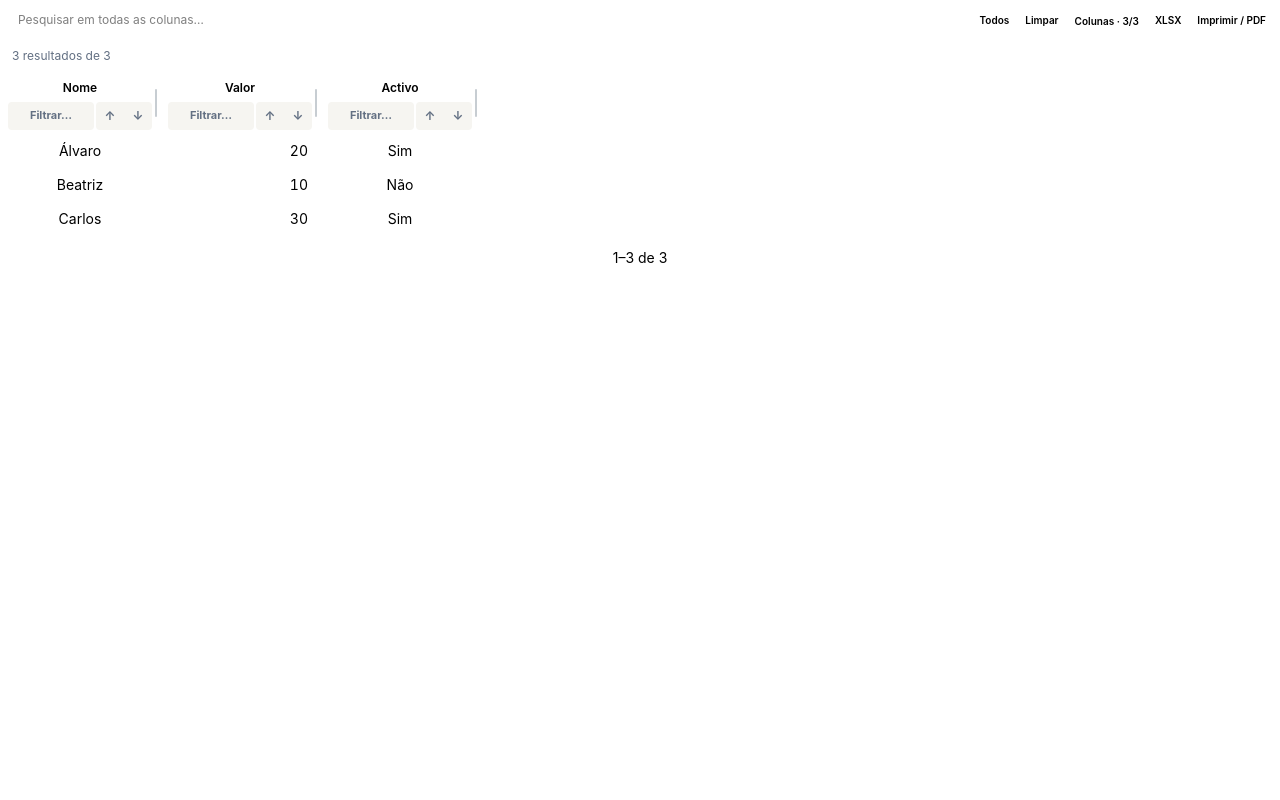
it: StandardDataTable › multisselecção booleana distingue todas as opções de nenhuma opção
The image size is (1280, 800).
Click the 3rd button "Filtrar…" at (371, 116), box 328,102 -> 414,130
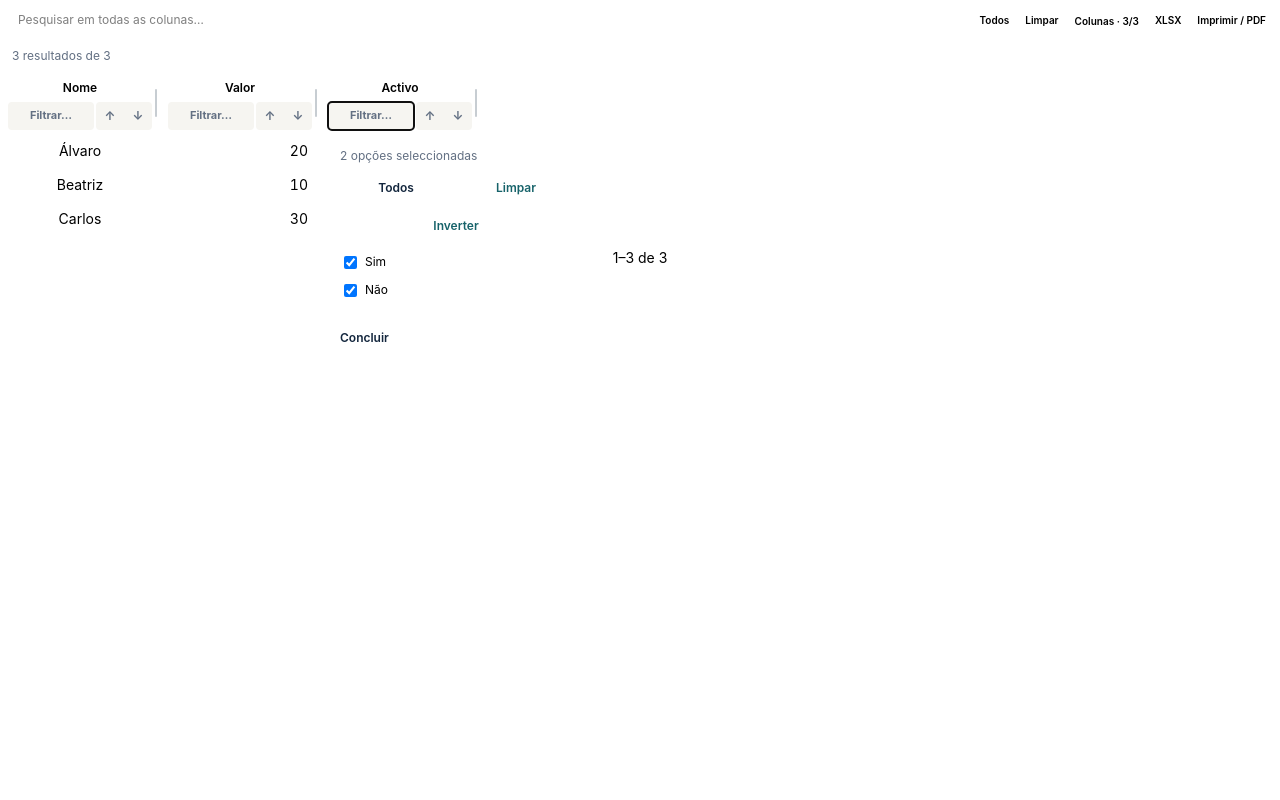
Expected: the text "2 opções seleccionadas" is shown, 340,148 -> 477,163
Click the button "Limpar" below "opções seleccionadas" at (516, 188), box 460,172 -> 572,204
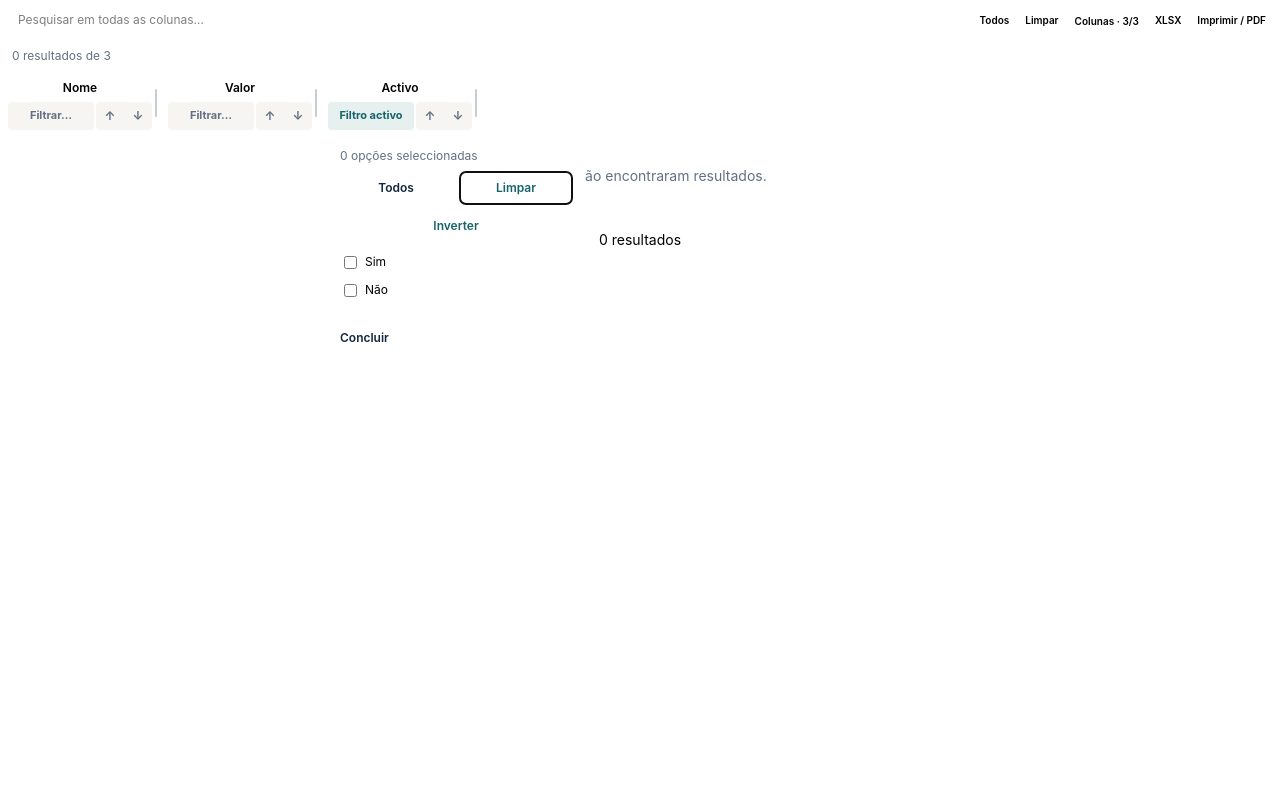
Expected: the text "0 resultados de 3" is shown, 12,48 -> 111,63
Click the button "Todos" below "opções seleccionadas" at (396, 188), box 340,172 -> 452,204
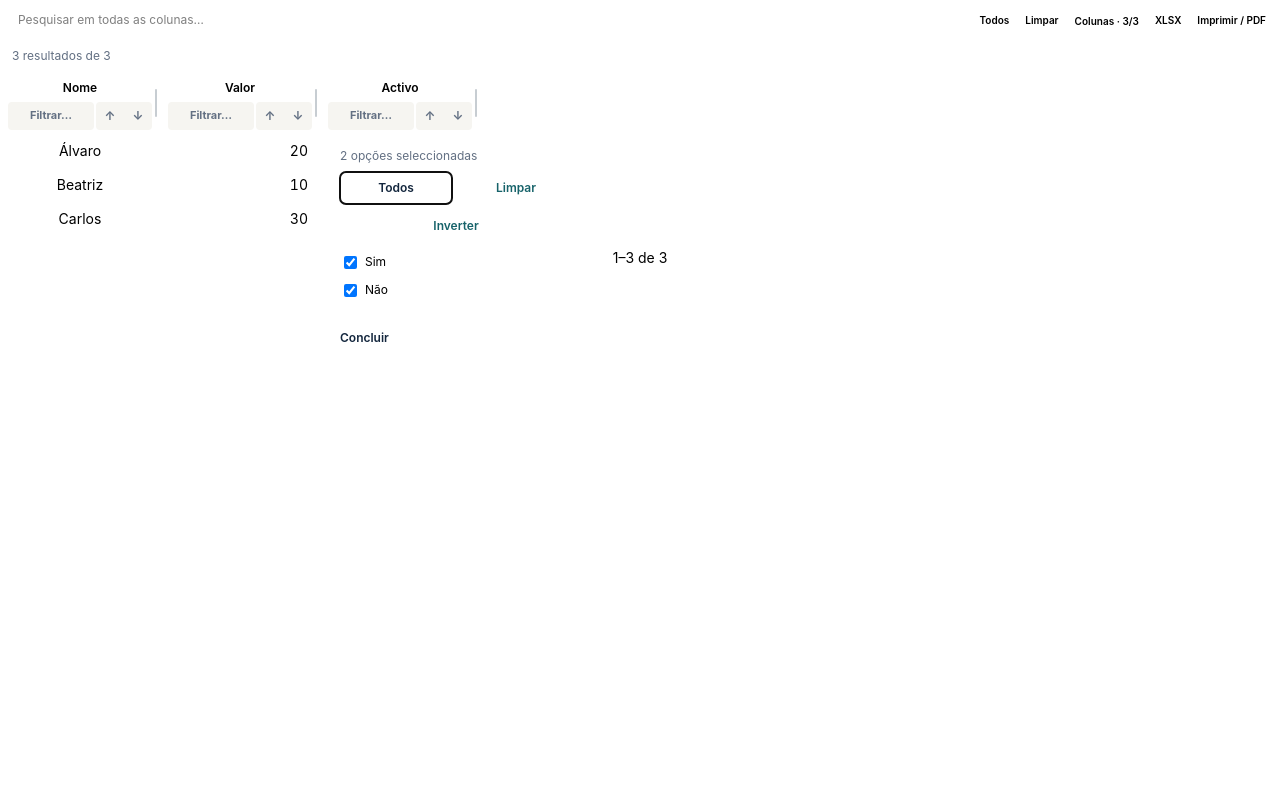
Expected: the text "3 resultados de 3" is shown, 12,48 -> 111,63
